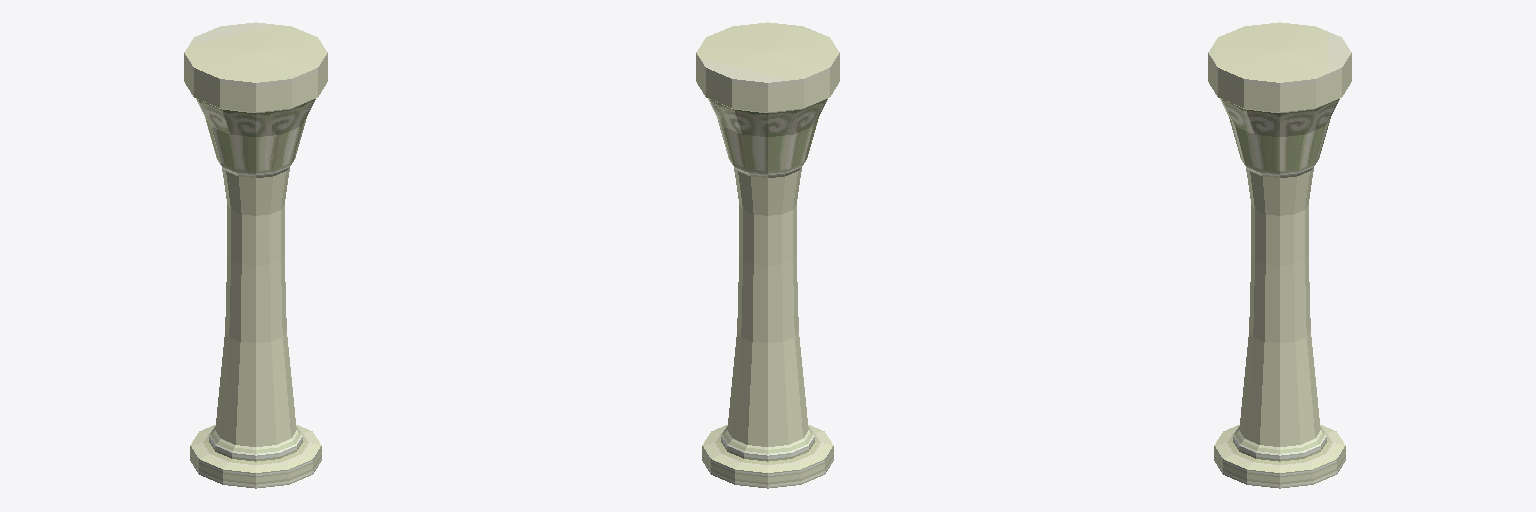
The picture shows the model from 3 angles: view 1: azimuth 30°, elevation 25°; view 2: azimuth 150°, elevation 25°; view 3: azimuth 270°, elevation 25°; orthographic projection.
Parts seen in each view (by area): view 1: Mesh_0000; view 2: Mesh_0000; view 3: Mesh_0000.
Boxes of the visible parts, box(x1,y1,x2,y2) form: Mesh_0000: box(184, 22, 327, 488); Mesh_0000: box(696, 22, 839, 488); Mesh_0000: box(1208, 22, 1351, 488).
Bounding box in the file's own units: 0.8023 × 2.53 × 0.8023.
1 materials, 1 textured.